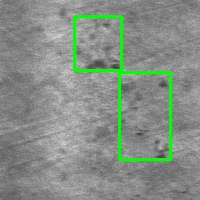rolled-in_scale: (119, 72, 170, 159), (74, 16, 121, 70)
